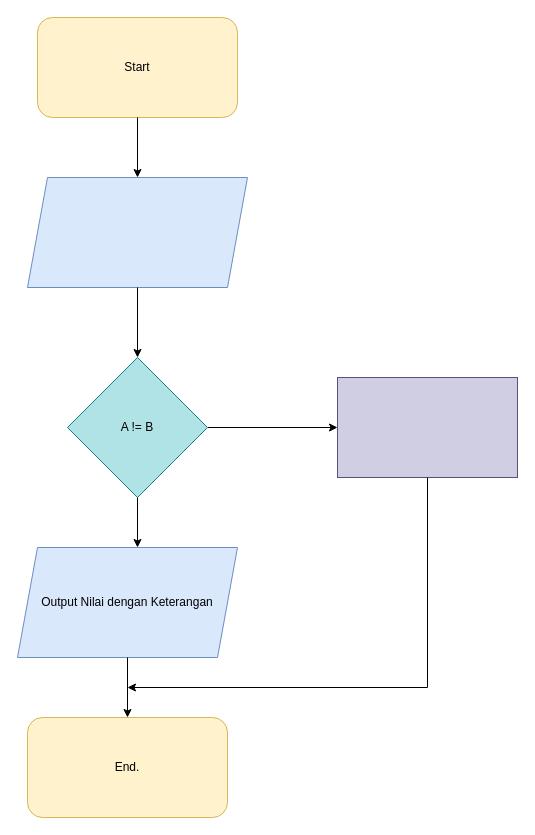
Some shapes in this 535 by 835 pixel diagram are drawn without their labels. The shapes that lost their labels are listed below. From the top down, each one's box as (x1, y1, x2, y2) in pixels, then its label:
(26, 176, 248, 288): Input Nilai
(336, 376, 518, 478): Benar
